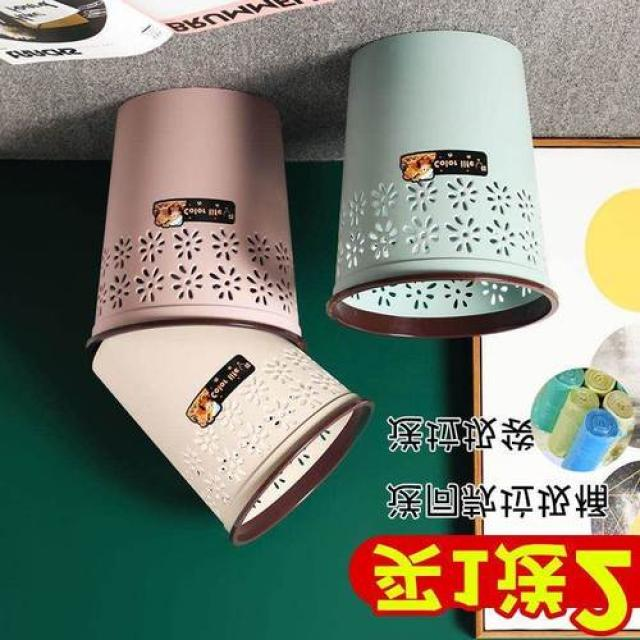dustbin: (323, 28, 565, 344), (85, 320, 378, 550), (82, 80, 308, 354)
